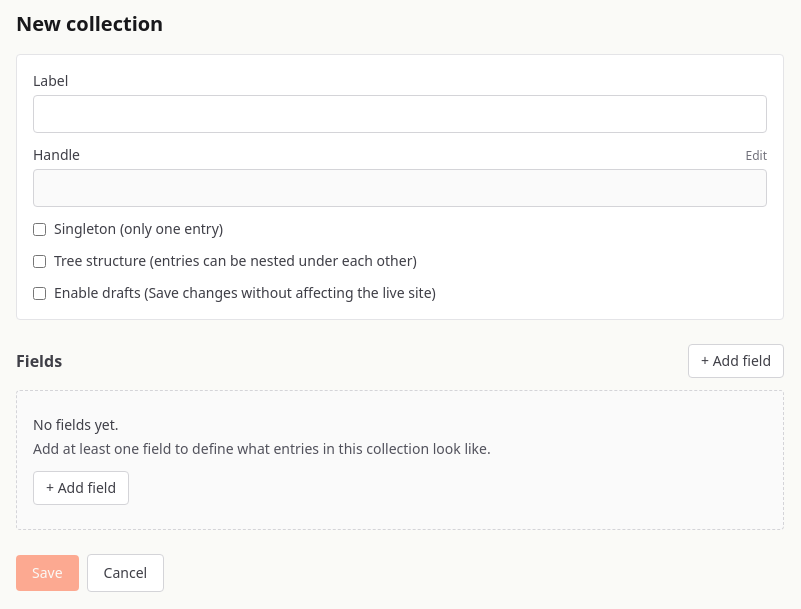
Test: BlueprintEditor › auto-slugifies handle from label in create mode
Type "My Cool Pages" into the field with test id "blueprint-label" at (400, 114), box [33, 95, 767, 133]
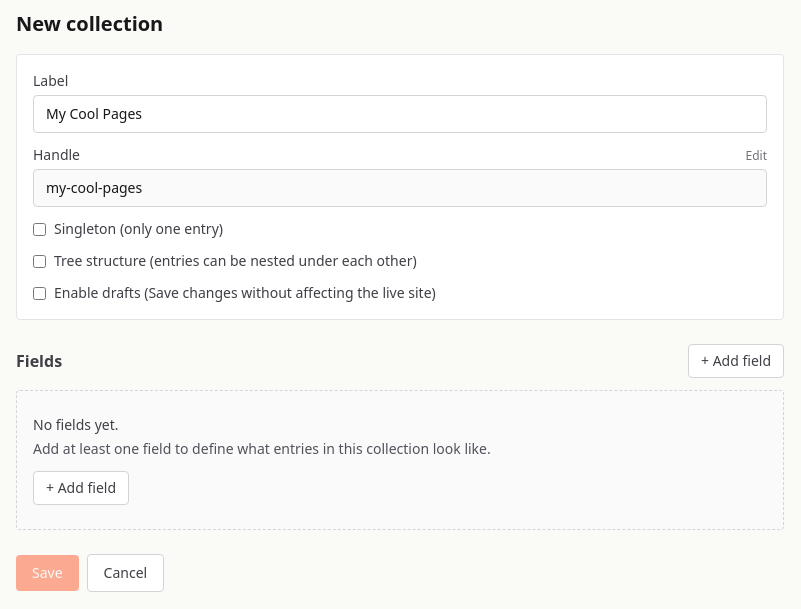
Result: the field with test id "blueprint-handle" holds "my-cool-pages" at [33, 169, 767, 207]
